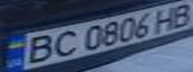0: (78, 22, 106, 52), (118, 16, 139, 44)
6: (133, 10, 160, 38)
8: (103, 19, 124, 47)
B: (15, 33, 60, 65), (166, 1, 193, 30)
C: (45, 28, 81, 58)
H: (148, 4, 184, 33)
